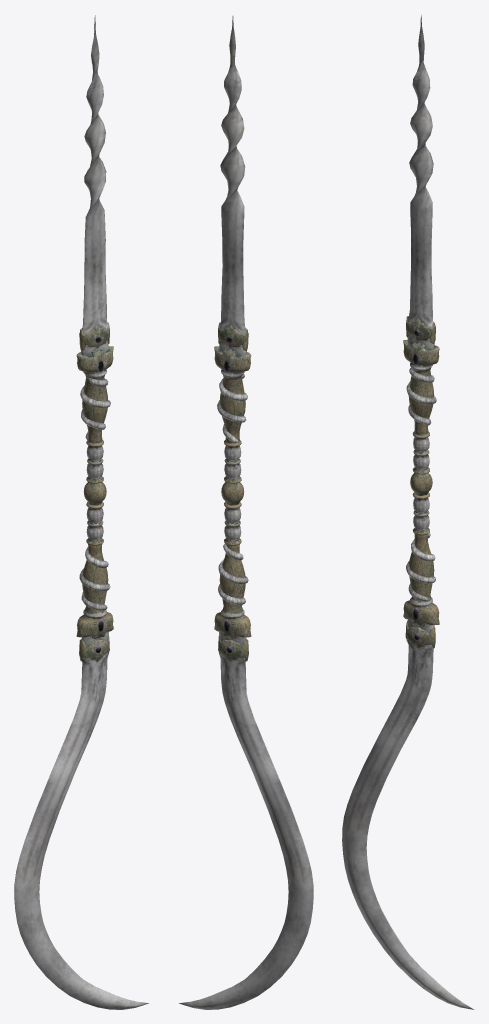
Rendered from weapon-wp_a_1101.glb.
3 renders of one model, left to right at view 1: azimuth 30°, elevation 25°; view 2: azimuth 150°, elevation 25°; view 3: azimuth 330°, elevation 25°, orthographic. The views are drawn at different scales.
Visible parts, largest first — view 1: wp_a_1101_mesh; view 2: wp_a_1101_mesh; view 3: wp_a_1101_mesh.
Boxes of the visible parts, x1,y1,x2,y2 form: wp_a_1101_mesh: (14, 15, 148, 1009); wp_a_1101_mesh: (179, 16, 313, 1009); wp_a_1101_mesh: (342, 15, 474, 1009).
Size of the model in its own units: 0.3812 by 2.7 by 0.0737.
1 material, 1 textured.
